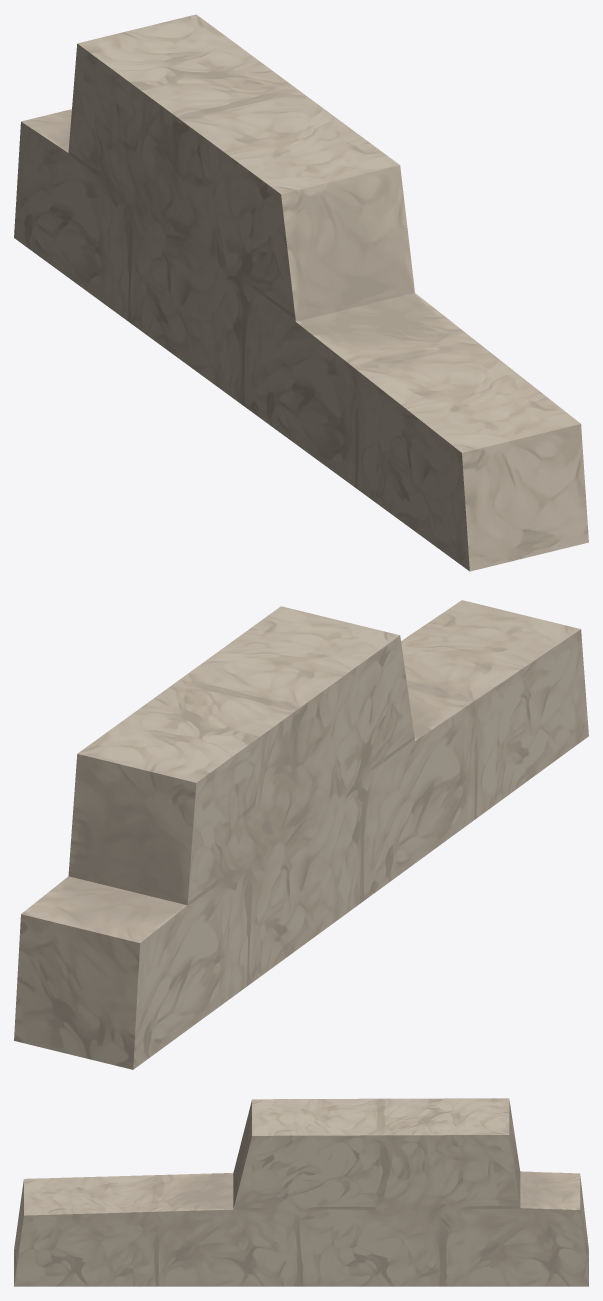
File: murek_1.obj
3 views of the same model, one above another, from view 1: azimuth 30°, elevation 25°; view 2: azimuth 150°, elevation 25°; view 3: azimuth 270°, elevation 25° (orthographic). The views are drawn at different scales.
Parts seen in each view (by area): view 1: Vert.004; view 2: Vert.004; view 3: Vert.004.
Boxes of the visible parts, x1=… form: Vert.004: x1=14, y1=14, x2=588, y2=571; Vert.004: x1=14, y1=600, x2=588, y2=1069; Vert.004: x1=14, y1=1098, x2=588, y2=1286.
Size of the model in its own units: 4.13 by 7.98 by 27.37.
1 material, 1 textured.
